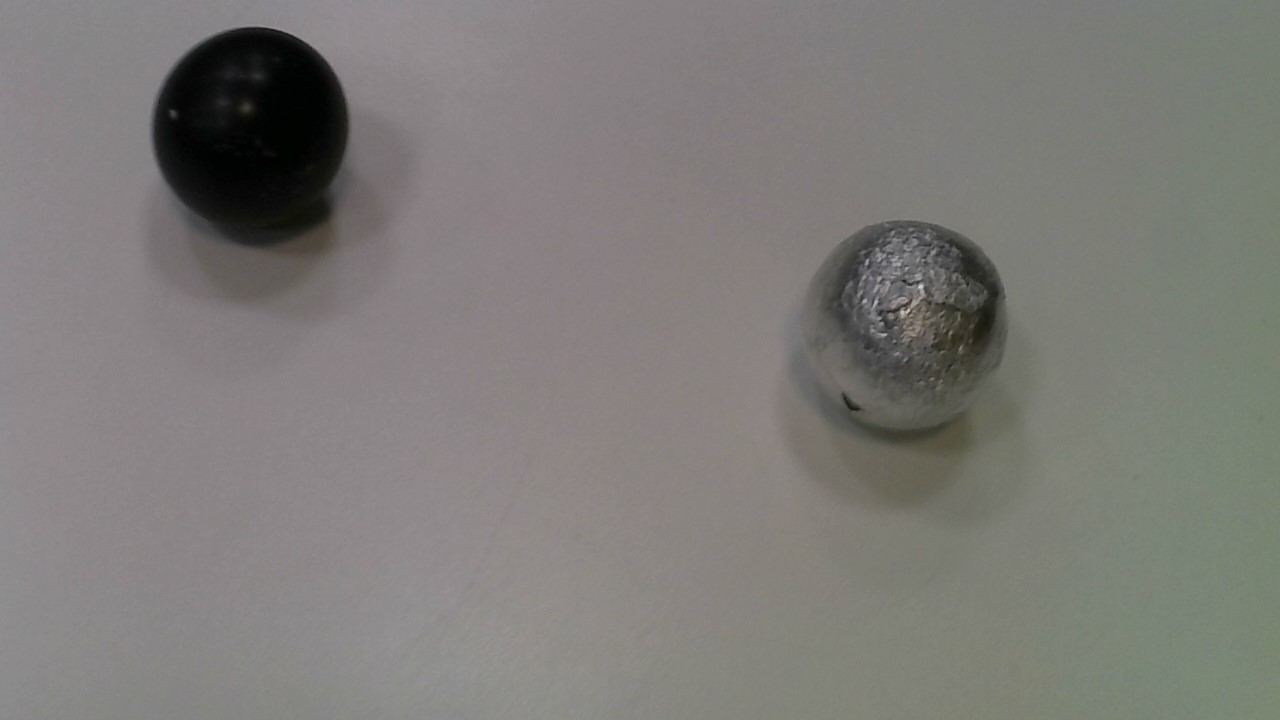black_ball: (145, 22, 362, 233)
silver_ball: (792, 214, 1022, 445)
